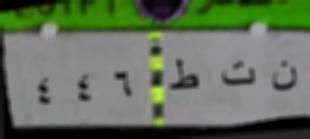4: (69, 67, 98, 110), (30, 69, 55, 110)
6: (106, 62, 139, 105)
Taa: (165, 56, 203, 100)
noon: (265, 56, 300, 98)
taa: (221, 55, 259, 92)
